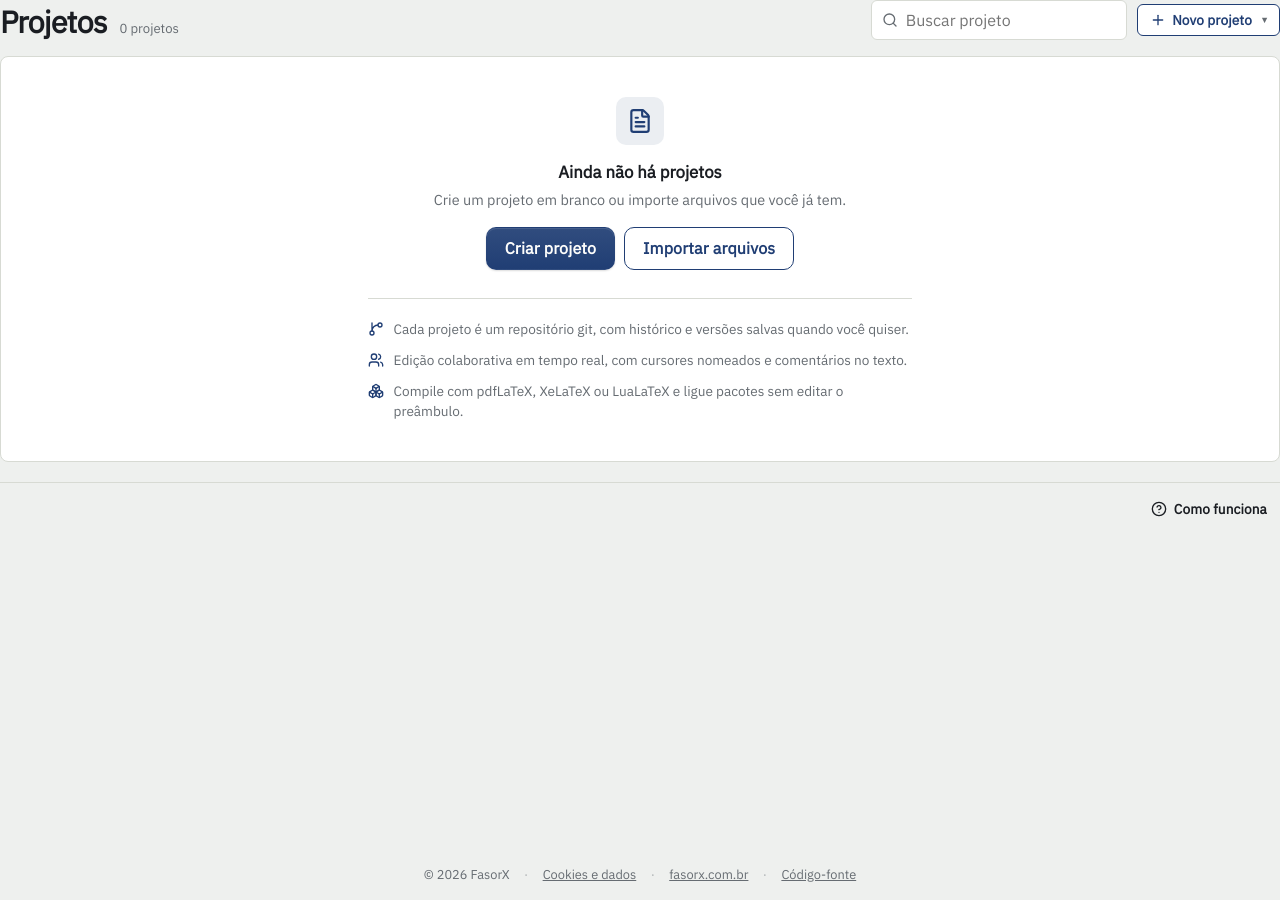
Scenario: ProjectsPage › shows a clear first-project action without covering the empty page
The image size is (1280, 900).
Check: the heading "Ainda não há projetos" is shown, box [558, 161, 722, 185]
Click the button "Criar projeto". click: (550, 248)
box: [486, 226, 615, 270]
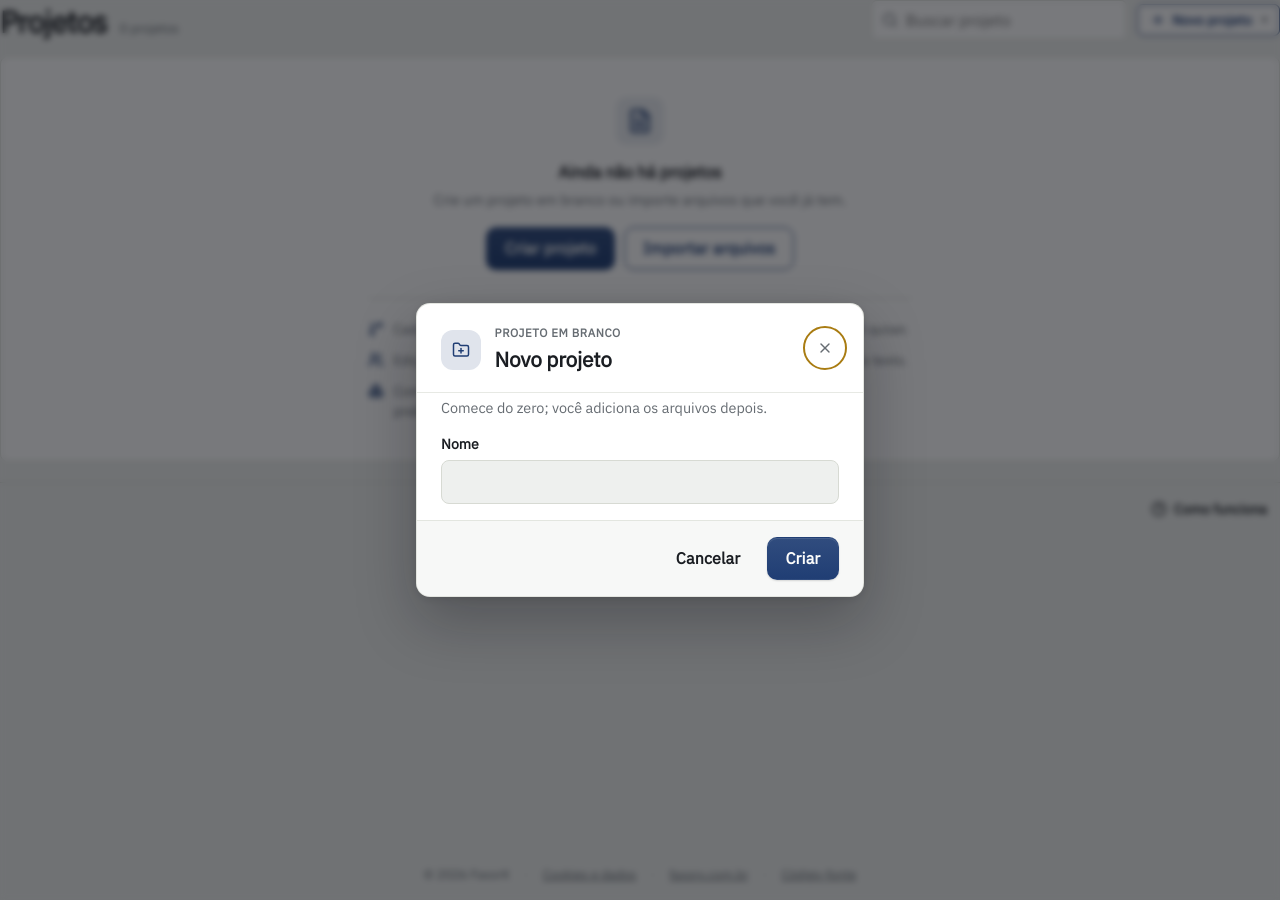
Check: the dialog "Novo projeto" is shown, box [416, 303, 864, 597]
